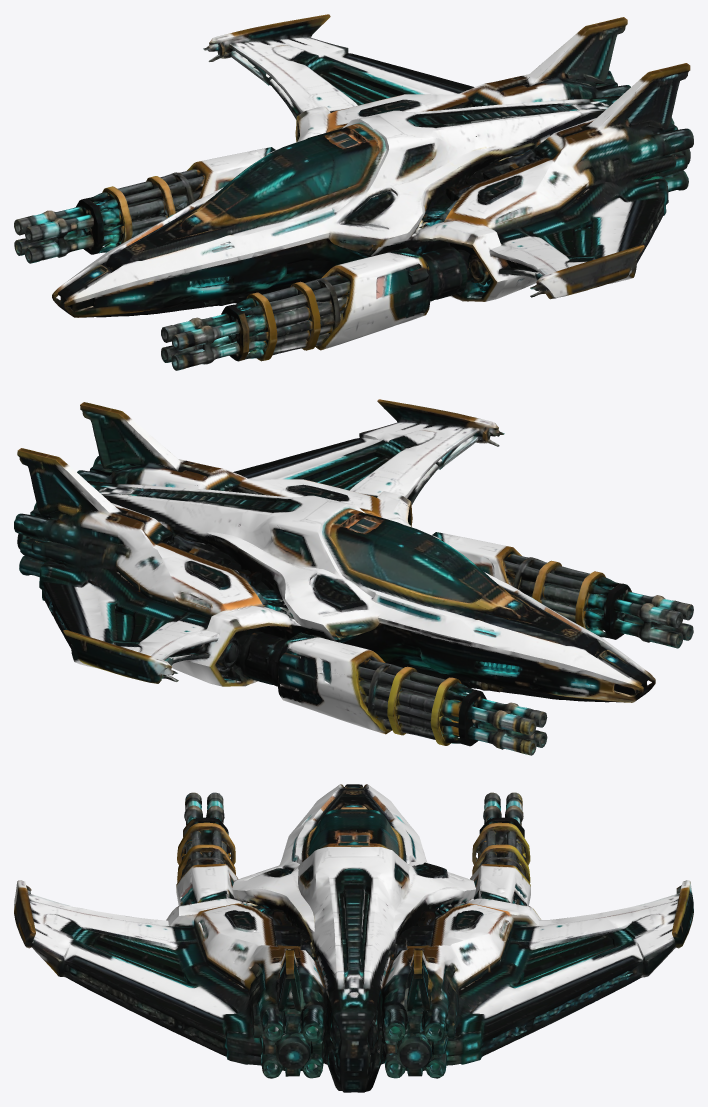
File: blaster.glb
3 views of the same model, one above another, from view 1: azimuth 30°, elevation 25°; view 2: azimuth 150°, elevation 25°; view 3: azimuth 270°, elevation 25° (orthographic).
Visible parts, largest first — view 1: mesh_0; view 2: mesh_0; view 3: mesh_0.
Part boxes in pixels (left/top/right/bottom): mesh_0: left=14, top=14, right=693, bottom=370; mesh_0: left=14, top=399, right=693, bottom=755; mesh_0: left=14, top=784, right=693, bottom=1092.
Bounding box in the file's own units: 1.9 × 0.4768 × 1.83.
Materials: 1 (1 with a texture image).
